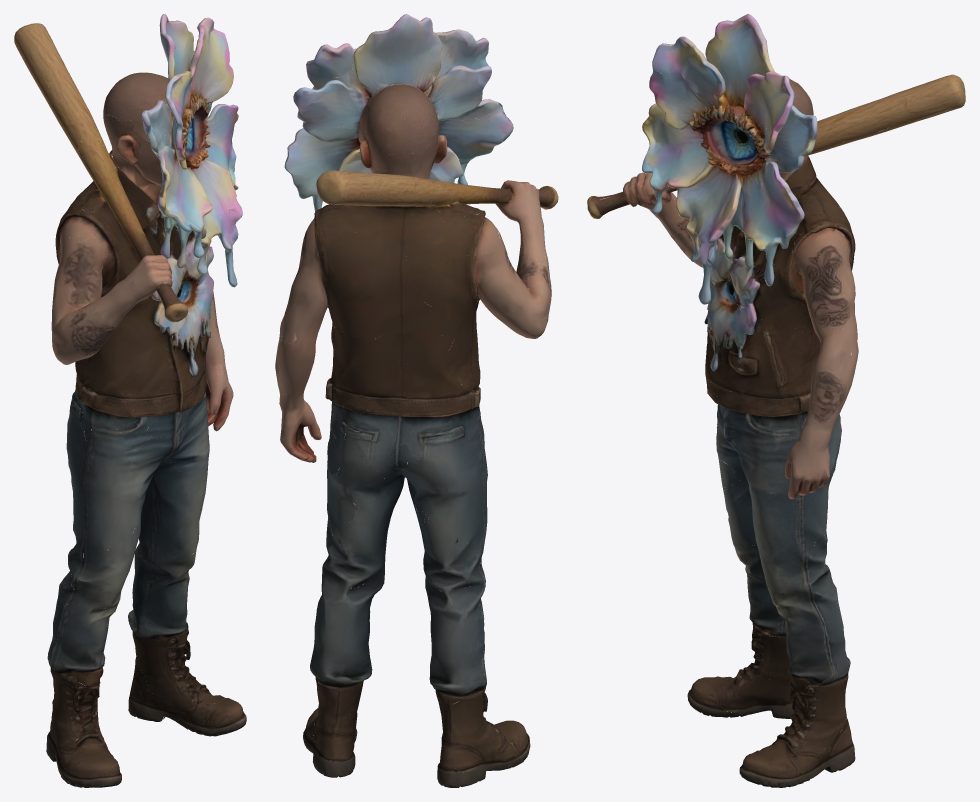
Rendered from tough.glb.
3 renders of one model, left to right at view 1: azimuth 30°, elevation 25°; view 2: azimuth 150°, elevation 25°; view 3: azimuth 270°, elevation 25°, orthographic.
Visible parts, largest first — view 1: tripo_node_533e37fd-5cc7-4275-9052-2d8a21aa2958; view 2: tripo_node_533e37fd-5cc7-4275-9052-2d8a21aa2958; view 3: tripo_node_533e37fd-5cc7-4275-9052-2d8a21aa2958.
Part boxes in pixels (box(x1,y1,x2,y2)): tripo_node_533e37fd-5cc7-4275-9052-2d8a21aa2958: box(14, 14, 246, 787); tripo_node_533e37fd-5cc7-4275-9052-2d8a21aa2958: box(275, 14, 558, 787); tripo_node_533e37fd-5cc7-4275-9052-2d8a21aa2958: box(587, 14, 965, 787).
Bounding box in the file's own units: 0.3139 × 0.9999 × 0.4664.
1 material, 1 textured.
